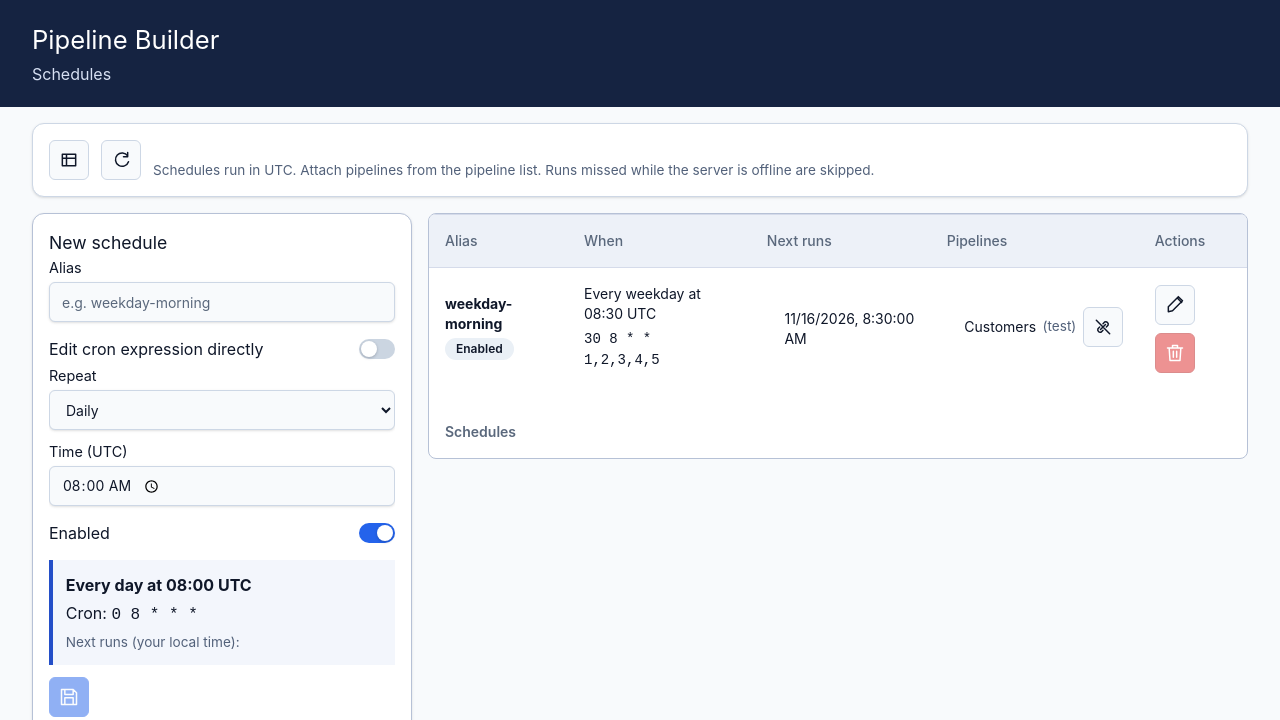
keeps schedules visible beneath the loading overlay during refresh
Expected: the table "Schedules" is shown, [429,214,1247,458]
Click the button named "Refresh schedules" at (121, 160), box [101,140,141,180]
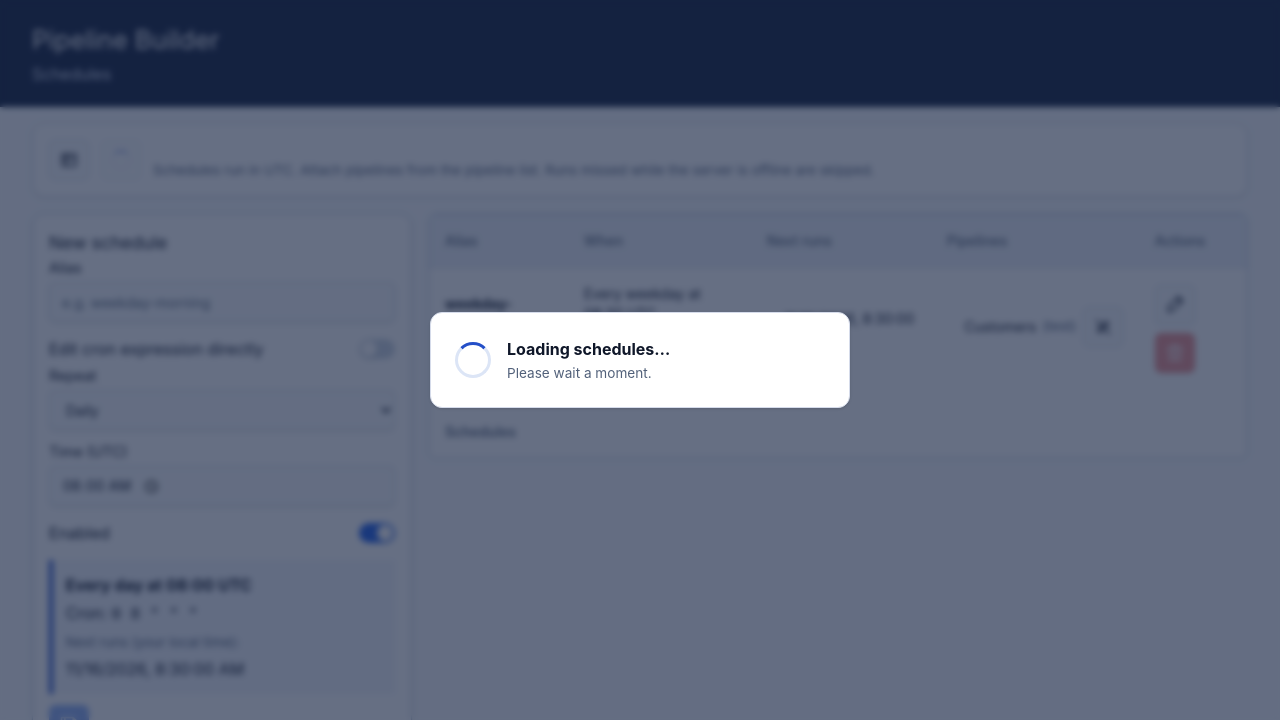
Expected: the table "Schedules" is shown, [429,214,1247,458]
Expected: the text "Loading schedules…" is shown, [507,339,670,359]
